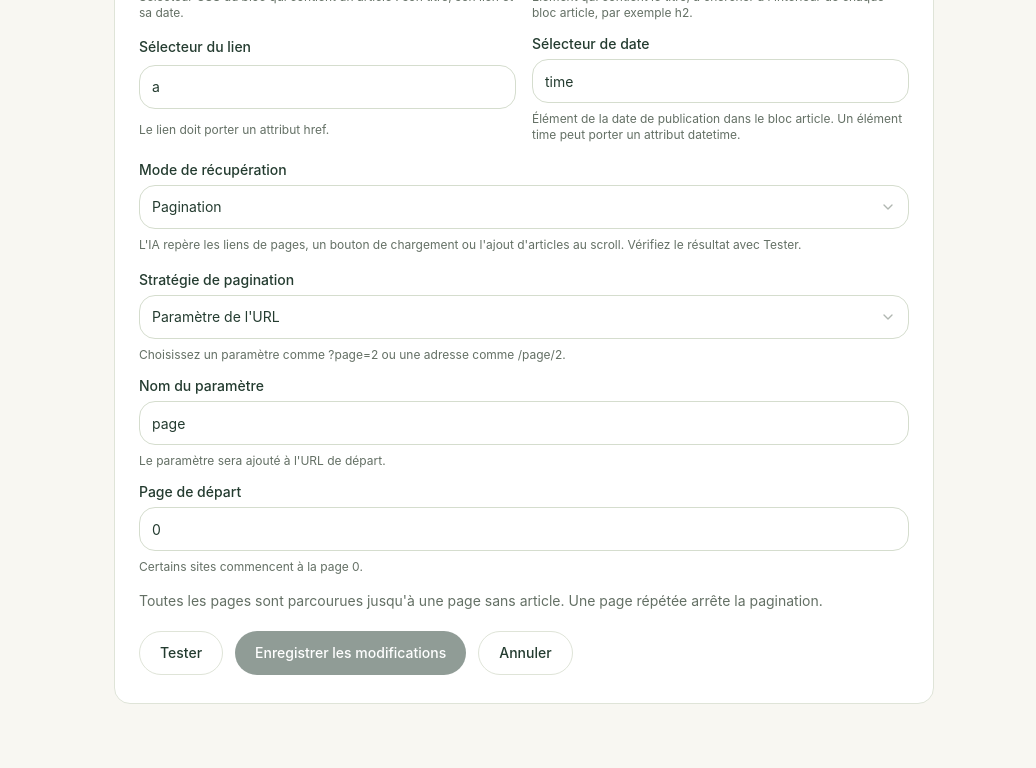
loads a prefilled SCRAPING edit page directly and returns to its tab
(page scrolled)
Click the button "Annuler".
click(525, 653)  # box [478,631,573,675]
(page scrolled)
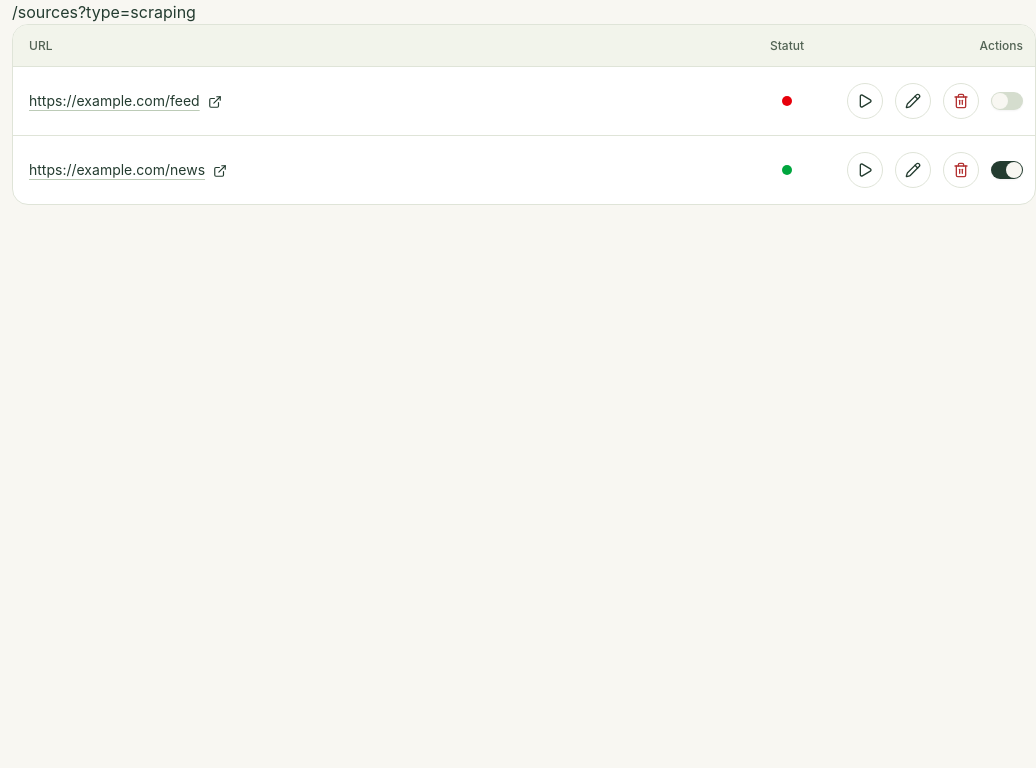
Expected: the text with test id "location" reads "/sources?type=scraping", [12,2,196,22]
